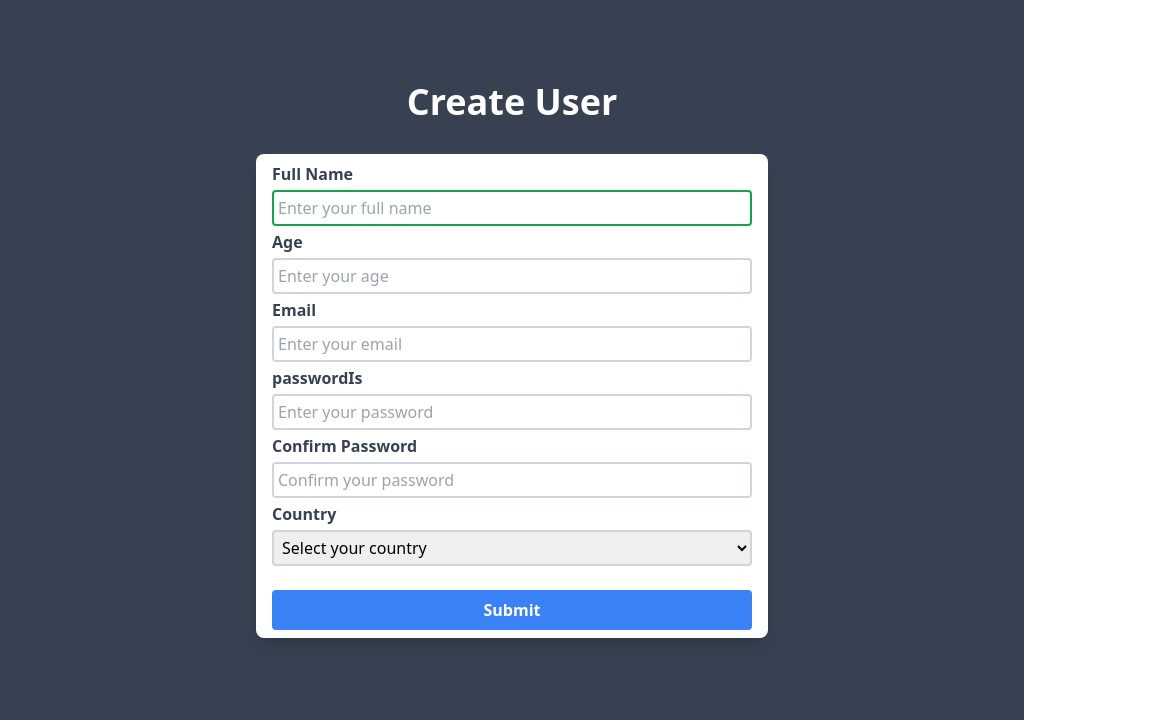
Form Component › should display required field errors if fields are empty
Click the button "Submit". click: (512, 610)
box: [272, 590, 752, 630]
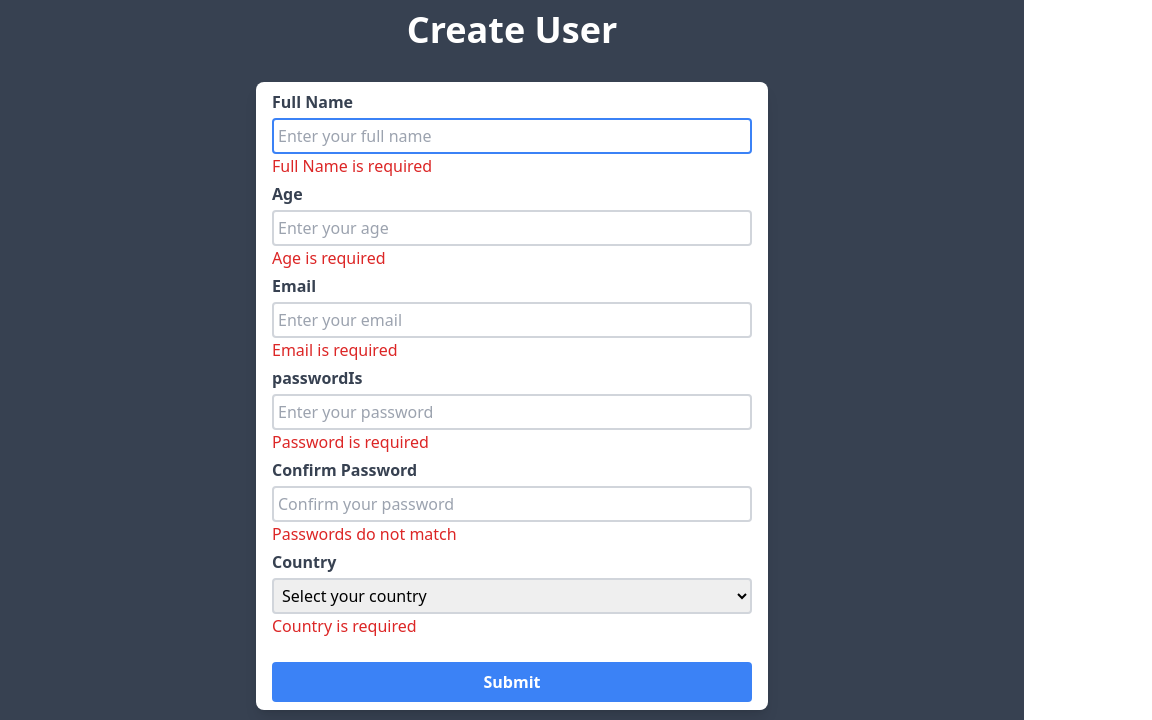
Expected: the text "Full Name is required" is shown, [272, 155, 432, 177]
Expected: the text "Age is required" is shown, [272, 247, 386, 269]
Expected: the text "Email is required" is shown, [272, 339, 398, 361]
